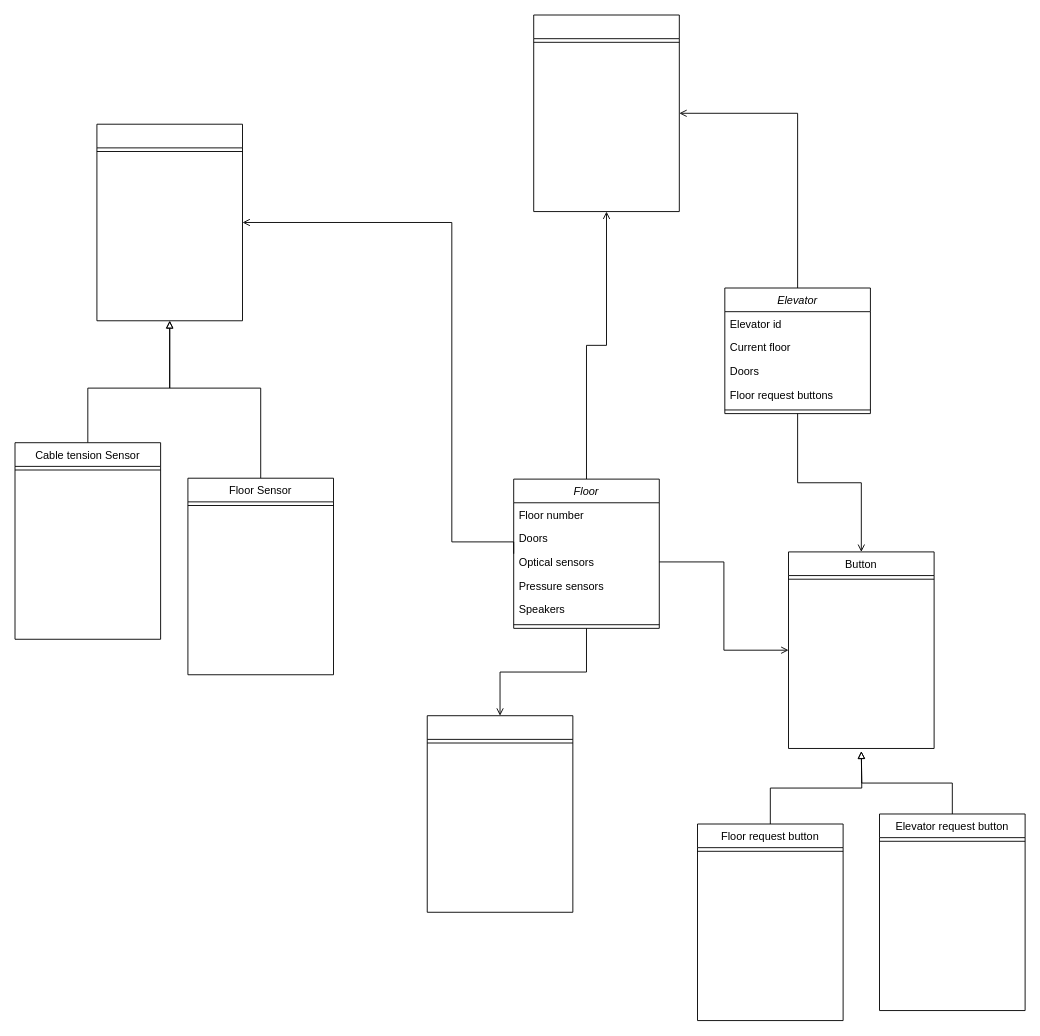
Some shapes in this 1040 by 1036 pixel diagram are drawn without their labels. Here are the shapes that lost their labels. From the top down, the centre of each, then its label:
At pixel 606 113: "Door".
At pixel 169 222: "Sensor".
At pixel 499 813: "Speaker".
